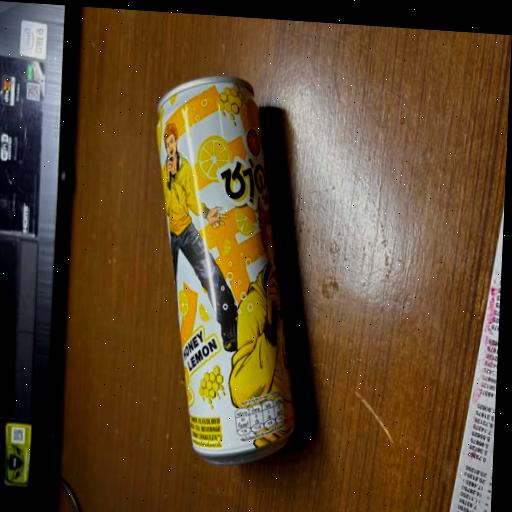bottle: (131, 40, 332, 491)
